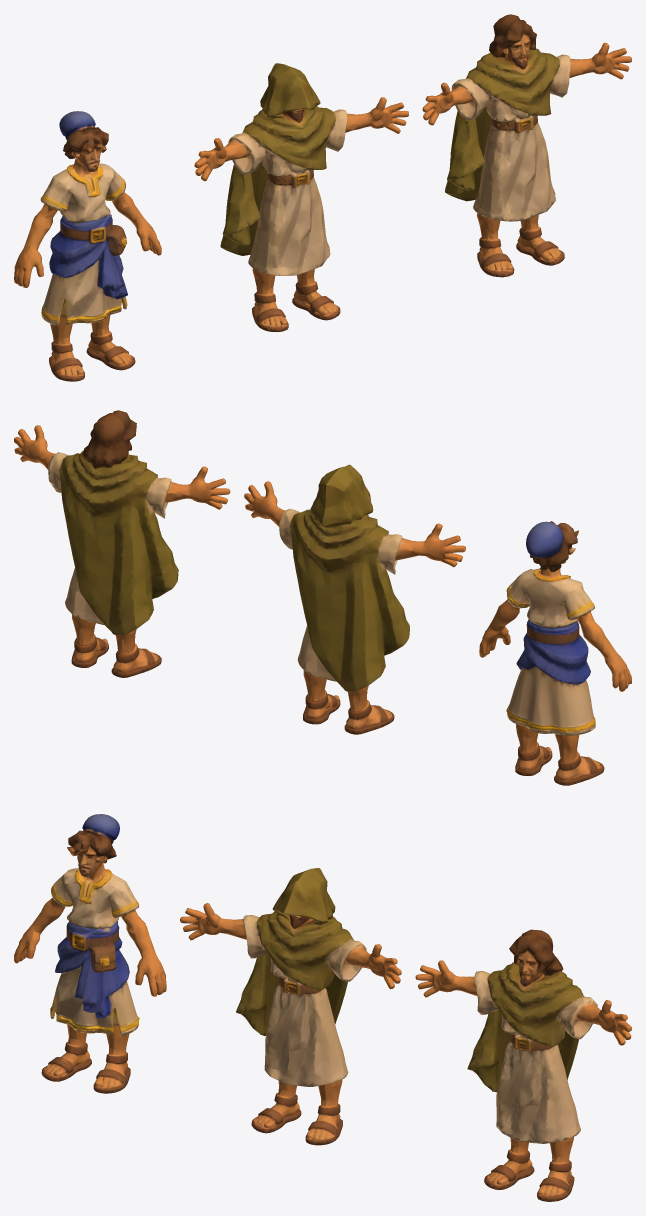
File: viajantes_capa_tripo.glb
3 renders of one model, top to bottom at view 1: azimuth 30°, elevation 25°; view 2: azimuth 150°, elevation 25°; view 3: azimuth 330°, elevation 25°, orthographic. The views are drawn at different scales.
Parts seen in each view (by area): view 1: tripo_node_cb151f5f-f829-4361-9c14-7887fa71a877; view 2: tripo_node_cb151f5f-f829-4361-9c14-7887fa71a877; view 3: tripo_node_cb151f5f-f829-4361-9c14-7887fa71a877.
Boxes of the visible parts, <box> form: tripo_node_cb151f5f-f829-4361-9c14-7887fa71a877: <box>14,14,631,381</box>; tripo_node_cb151f5f-f829-4361-9c14-7887fa71a877: <box>14,410,631,785</box>; tripo_node_cb151f5f-f829-4361-9c14-7887fa71a877: <box>14,814,631,1201</box>.
Size of the model in its own units: 0.9805 by 0.3815 by 0.1223.
1 material, 1 textured.
